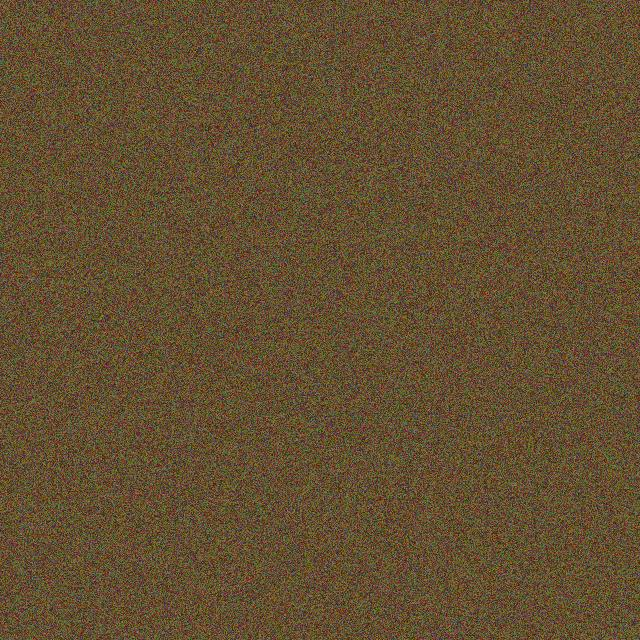human: (420, 289, 486, 323)
